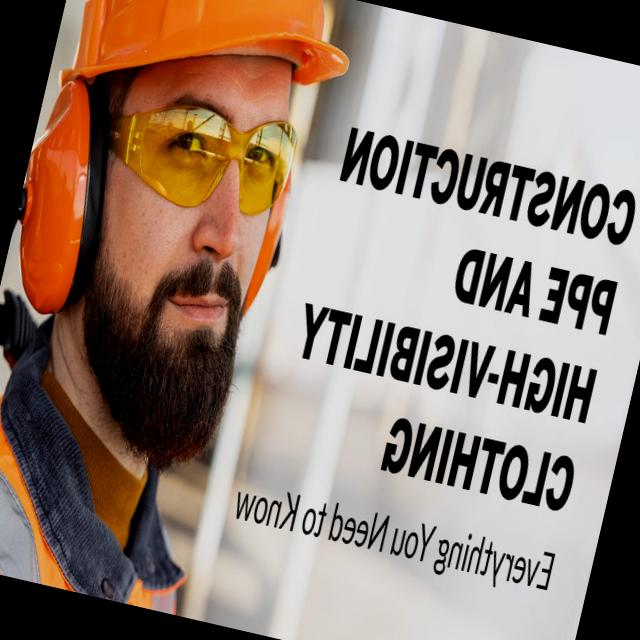goggles: (102, 67, 318, 239)
helmet: (71, 0, 356, 134)
vest: (0, 420, 209, 615)
